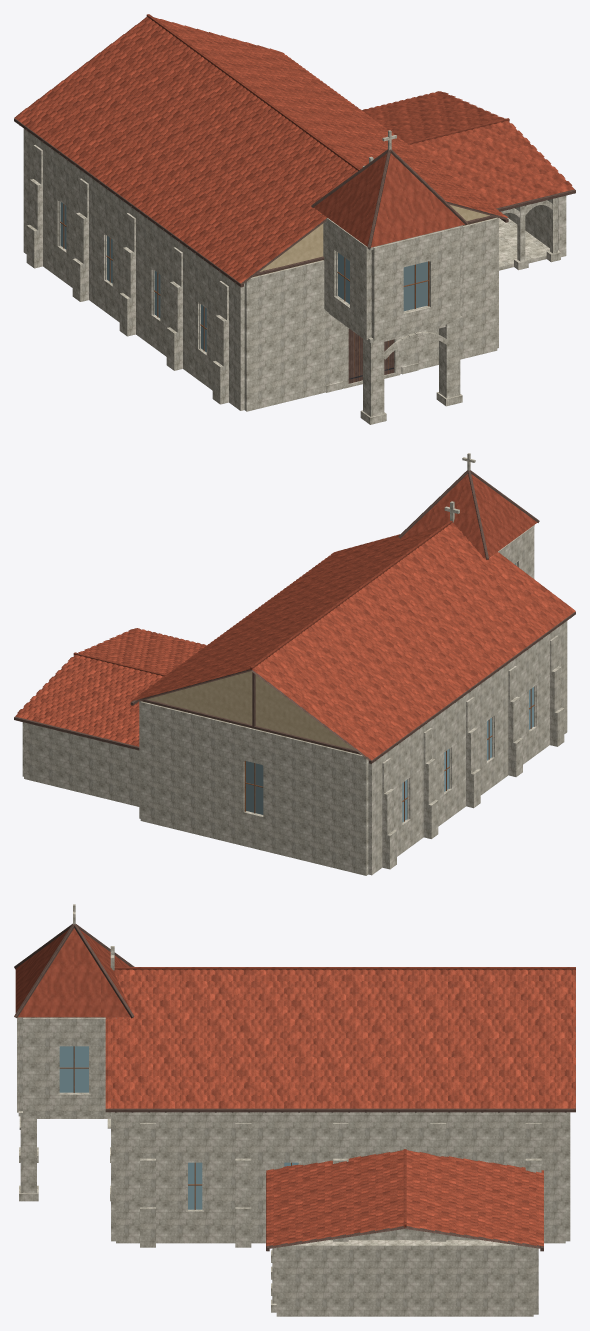
The model's file is B27_iglesia_monasterio.glb.
The picture shows the model from 3 angles, top to bottom: view 1: azimuth 30°, elevation 25°; view 2: azimuth 150°, elevation 25°; view 3: azimuth 270°, elevation 25°; orthographic projection. The views are drawn at different scales.
Visible parts, largest first — view 1: AUR034_CHAPEL_clay_tiles, AUR034_CHAPEL_stone_nave, AUR034_CLOISTER_clay_tiles, AUR034_BELL_TOWER_cut_stone_belfry, AUR034_CHAPEL_buttresses_-1, AUR034_BELL_TOWER_clay_spire, AUR034_BELL_TOWER_portico_piers, AUR034_CLOISTER_flagstone_and_backwall, AUR034_CHAPEL_gable-1, AUR034_BELL_TOWER_lancet_-2.4_glazing, AUR034_CHAPEL_ridge, AUR034_CHAPEL_fascia1 (+1 smaller); view 2: AUR034_CHAPEL_clay_tiles, AUR034_CHAPEL_stone_nave, AUR034_CLOISTER_clay_tiles, AUR034_CHAPEL_buttresses_-1, AUR034_CLOISTER_flagstone_and_backwall, AUR034_CHAPEL_gable1, AUR034_BELL_TOWER_clay_spire, AUR034_BELL_TOWER_cut_stone_belfry, AUR034_CHAPEL_altar_window_glazing, AUR034_CHAPEL_ridge, AUR034_CHAPEL_fascia1, AUR034_CHAPEL_gable_tie1 (+2 smaller); view 3: AUR034_CHAPEL_clay_tiles, AUR034_CHAPEL_stone_nave, AUR034_CLOISTER_clay_tiles, AUR034_CLOISTER_flagstone_and_backwall, AUR034_BELL_TOWER_clay_spire, AUR034_BELL_TOWER_cut_stone_belfry, AUR034_CHAPEL_buttresses_1, AUR034_CHAPEL_fascia-1, AUR034_BELL_TOWER_portico_piers, AUR034_CHAPEL_ridge, AUR034_BELL_TOWER_side_lancet_2.4_glass, AUR034_CLOISTER_roof_sheathing (+1 smaller).
Boxes of the visible parts, x1,y1,x2,y2 form: AUR034_CHAPEL_clay_tiles: [14, 16, 507, 283]; AUR034_CHAPEL_stone_nave: [23, 128, 498, 411]; AUR034_CLOISTER_clay_tiles: [362, 91, 574, 208]; AUR034_BELL_TOWER_cut_stone_belfry: [321, 214, 462, 340]; AUR034_CHAPEL_buttresses_-1: [26, 145, 228, 404]; AUR034_BELL_TOWER_clay_spire: [314, 153, 464, 247]; AUR034_BELL_TOWER_portico_piers: [326, 313, 462, 424]; AUR034_CLOISTER_flagstone_and_backwall: [499, 195, 566, 270]; AUR034_CHAPEL_gable-1: [252, 205, 495, 277]; AUR034_BELL_TOWER_lancet_-2.4_glazing: [403, 261, 427, 311]; AUR034_CHAPEL_ridge: [146, 14, 360, 170]; AUR034_CHAPEL_fascia1: [14, 118, 243, 287]; AUR034_CHAPEL_clay_tiles: [131, 522, 575, 760]; AUR034_CHAPEL_stone_nave: [139, 621, 567, 875]; AUR034_CLOISTER_clay_tiles: [15, 628, 206, 746]; AUR034_CHAPEL_buttresses_-1: [382, 635, 564, 869]; AUR034_CLOISTER_flagstone_and_backwall: [22, 722, 139, 806]; AUR034_CHAPEL_gable1: [142, 671, 360, 754]; AUR034_BELL_TOWER_clay_spire: [401, 474, 537, 558]; AUR034_BELL_TOWER_cut_stone_belfry: [498, 525, 534, 578]; AUR034_CHAPEL_altar_window_glazing: [246, 761, 263, 814]; AUR034_CHAPEL_ridge: [250, 520, 452, 669]; AUR034_CHAPEL_fascia1: [369, 611, 575, 763]; AUR034_CHAPEL_gable_tie1: [140, 699, 360, 754]; AUR034_CHAPEL_clay_tiles: [105, 969, 575, 1108]; AUR034_CHAPEL_stone_nave: [111, 1112, 570, 1243]; AUR034_CLOISTER_clay_tiles: [266, 1150, 543, 1246]; AUR034_CLOISTER_flagstone_and_backwall: [276, 1240, 538, 1316]; AUR034_BELL_TOWER_clay_spire: [15, 928, 130, 1017]; AUR034_BELL_TOWER_cut_stone_belfry: [17, 1017, 123, 1114]; AUR034_CHAPEL_buttresses_1: [140, 1123, 541, 1247]; AUR034_CHAPEL_fascia-1: [105, 1108, 575, 1112]; AUR034_BELL_TOWER_portico_piers: [19, 1116, 110, 1201]; AUR034_CHAPEL_ridge: [114, 967, 575, 970]; AUR034_BELL_TOWER_side_lancet_2.4_glass: [59, 1046, 88, 1092]; AUR034_CLOISTER_roof_sheathing: [269, 1226, 540, 1248].
Size of the model in its own units: 23.28 by 14.1 by 26.23.
Materials: 10 (8 with a texture image).
